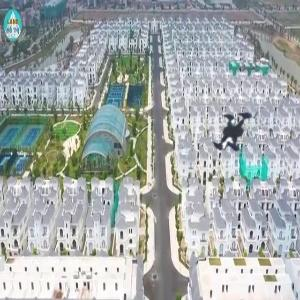drone: (188, 87, 281, 180)
